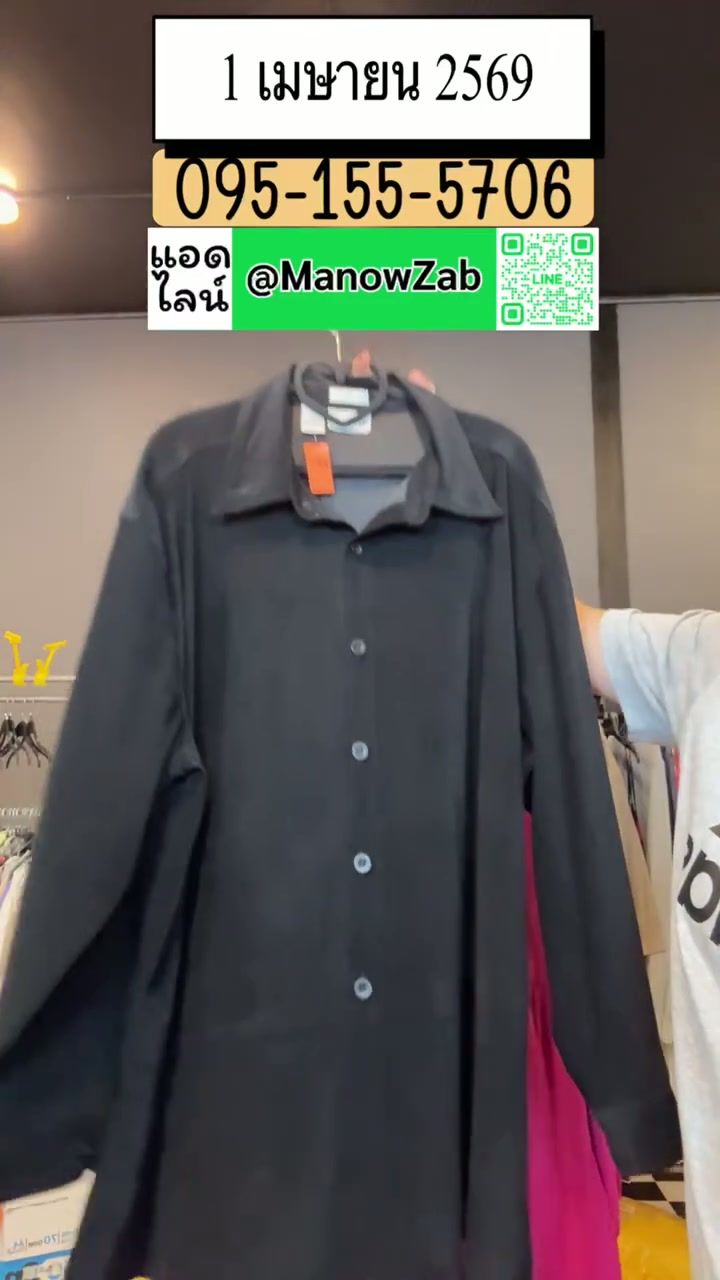display_shirt: (0, 364, 679, 1279)
